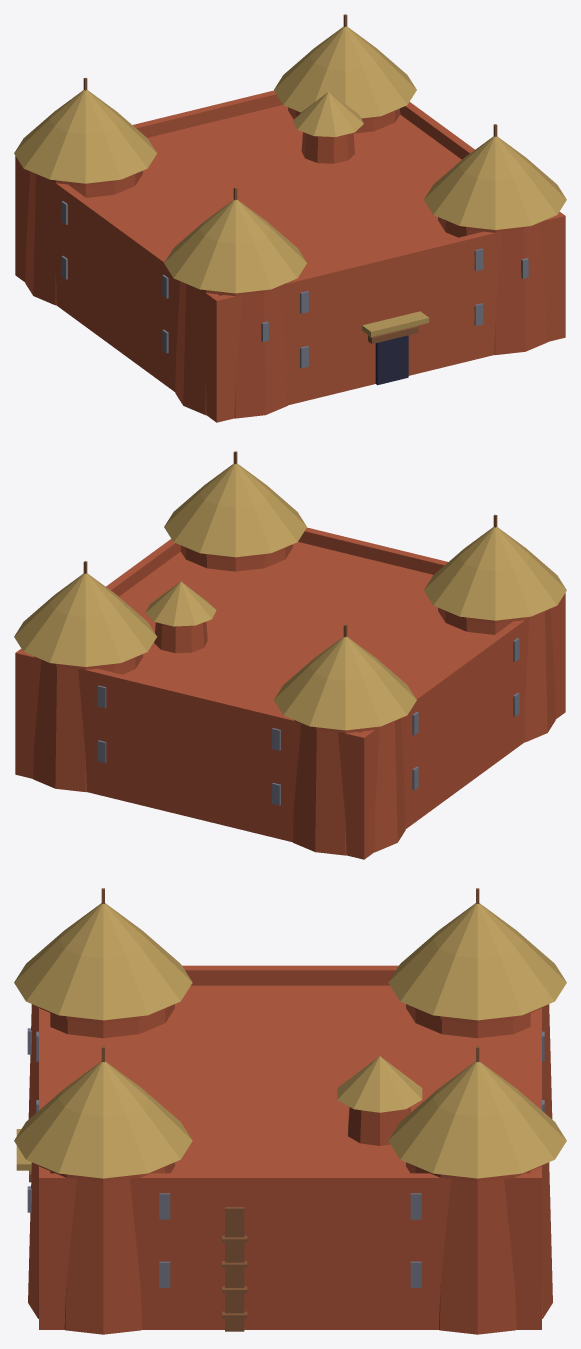
Rendered from house-2x2-2f-tata-a.glb.
The picture shows the model from 3 angles, top to bottom: view 1: azimuth 30°, elevation 25°; view 2: azimuth 150°, elevation 25°; view 3: azimuth 270°, elevation 25°; orthographic projection. The views are drawn at different scales.
Parts seen in each view (by area): view 1: house-2x2-2f-tata-a; view 2: house-2x2-2f-tata-a; view 3: house-2x2-2f-tata-a.
Boxes of the visible parts, x1,y1,x2,y2 form: house-2x2-2f-tata-a: (14,14,566,422); house-2x2-2f-tata-a: (14,451,566,859); house-2x2-2f-tata-a: (14,888,566,1334).
Bounding box in the file's own units: 1.98 × 1.01 × 1.98.
Materials: 1 (1 with a texture image).
